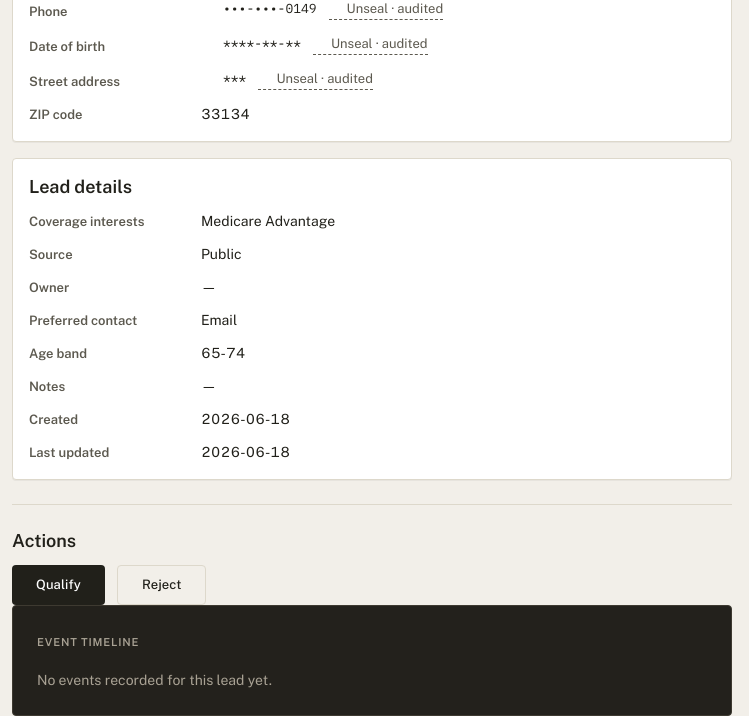
Test: LeadDetailPage qualify / reject actions › rejects a Working lead with a reason
(page scrolled)
// Open the inline reject form, type a reason, confirm.
Click the button with id "lead-detail-reject-button".
click(162, 585)  # box x1=117 y1=565 x2=206 y2=605
(page scrolled)
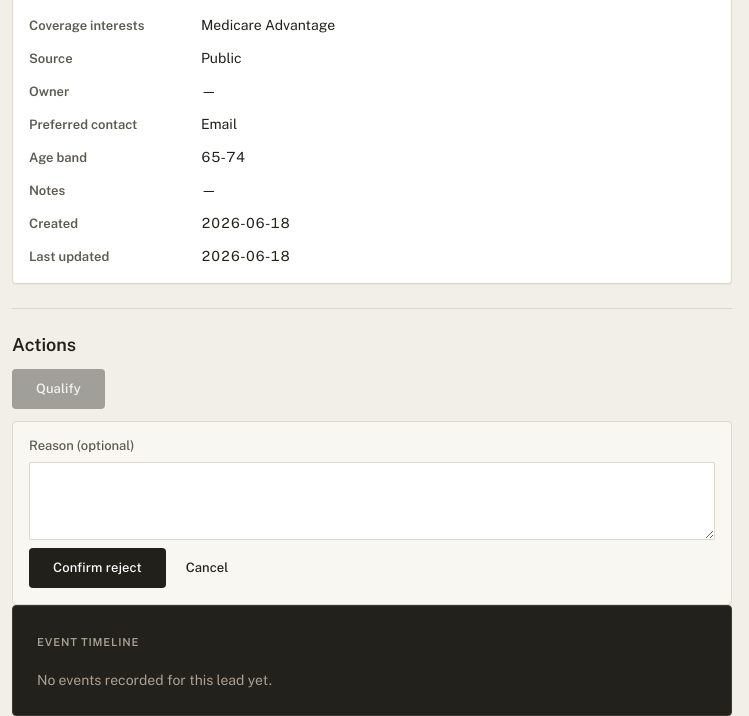
Type "Out of area." into the text box with id "lead-detail-reject-reason".
click(372, 501); type("Out of area.")  # box x1=29 y1=462 x2=715 y2=540
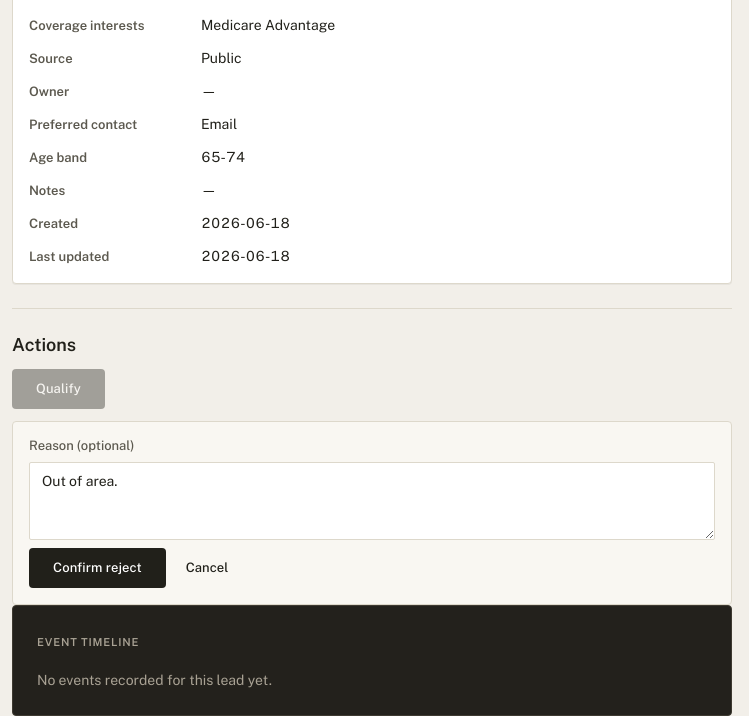
Click the button with id "lead-detail-reject-confirm-button".
click(97, 568)  # box x1=29 y1=548 x2=166 y2=588
(page scrolled)
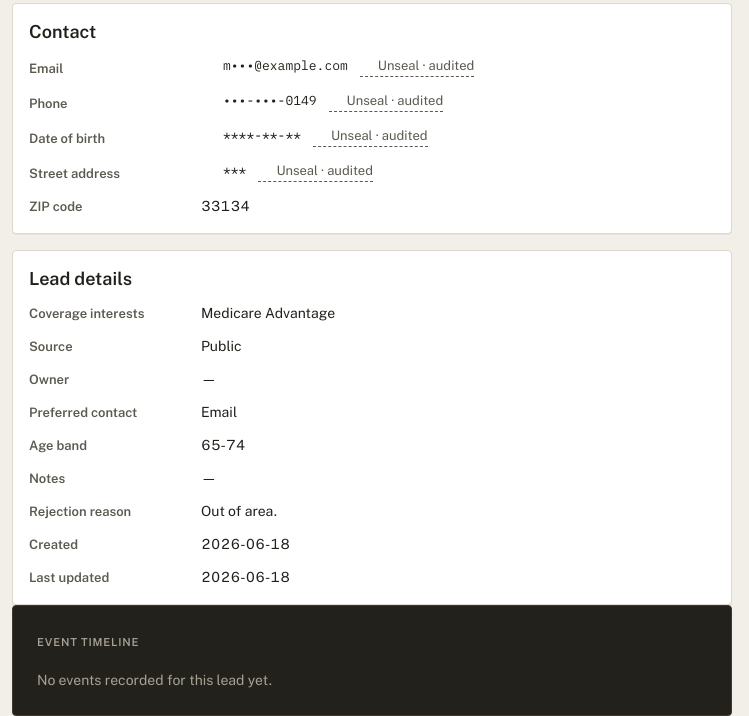
Expected: the text with id "lead-detail-rejection-reason-content" reads "Out of area.", x1=201 y1=503 x2=278 y2=519
